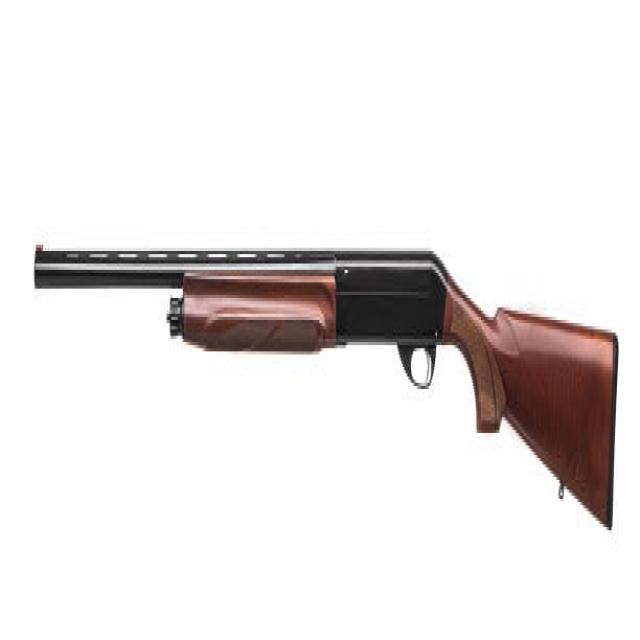rifle: (30, 222, 622, 547)
